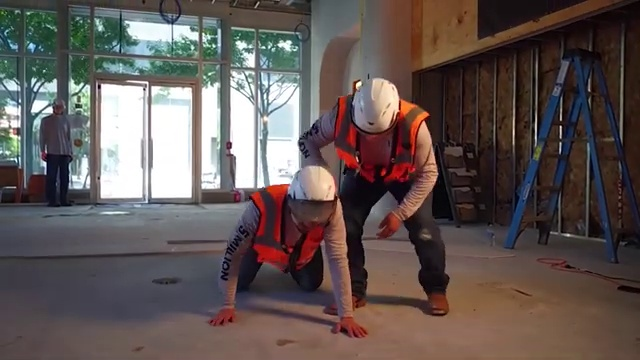helmet: (284, 165, 341, 223), (356, 78, 394, 136)
jacket: (215, 235, 354, 277), (337, 138, 450, 185)
